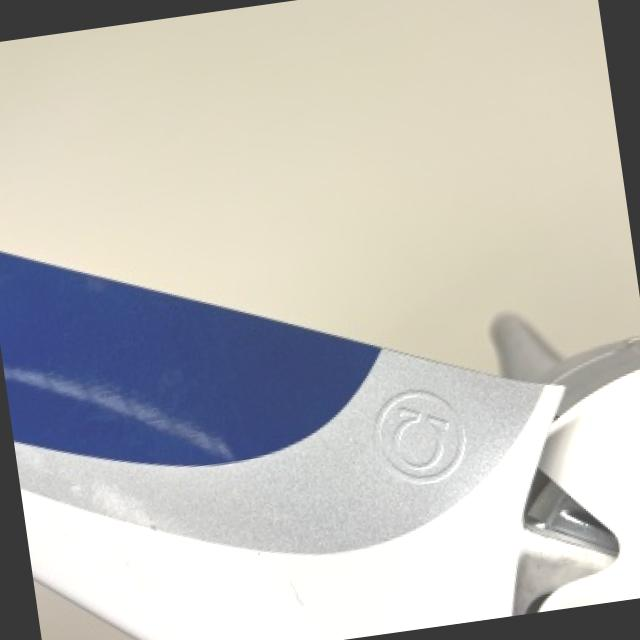healthy: (0, 251, 635, 640), (0, 0, 640, 371)
